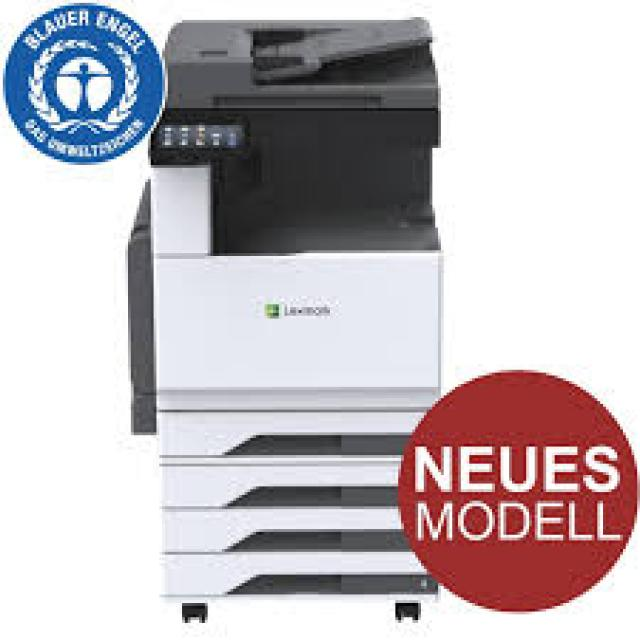printer: (125, 14, 447, 623)
